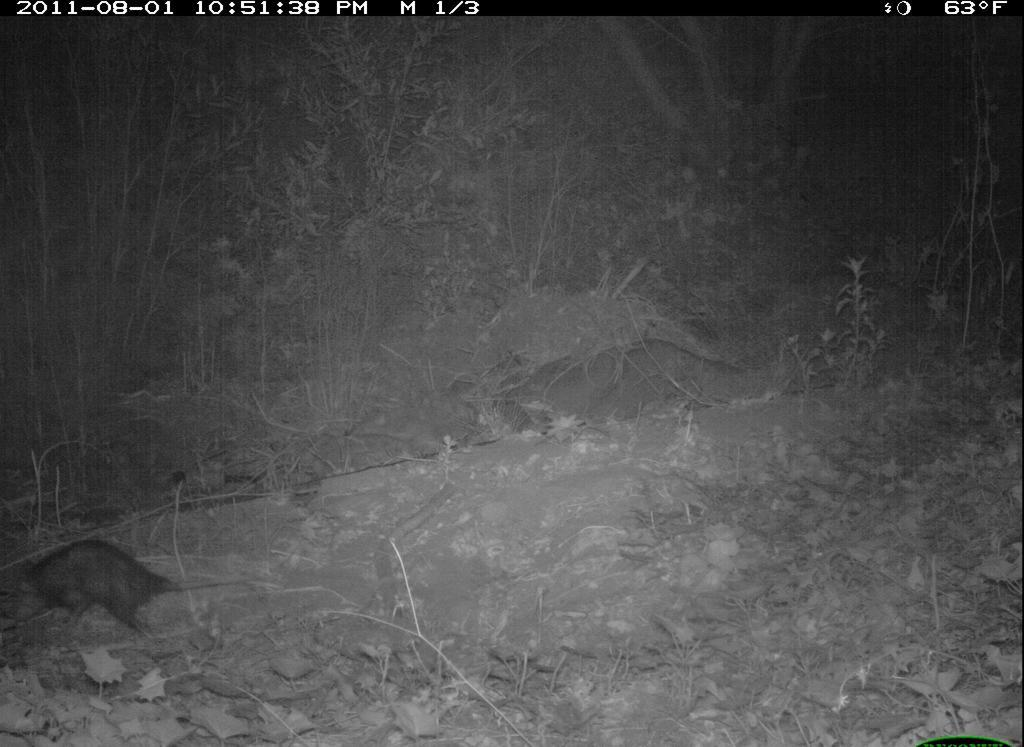opossum: (4, 520, 250, 646)
